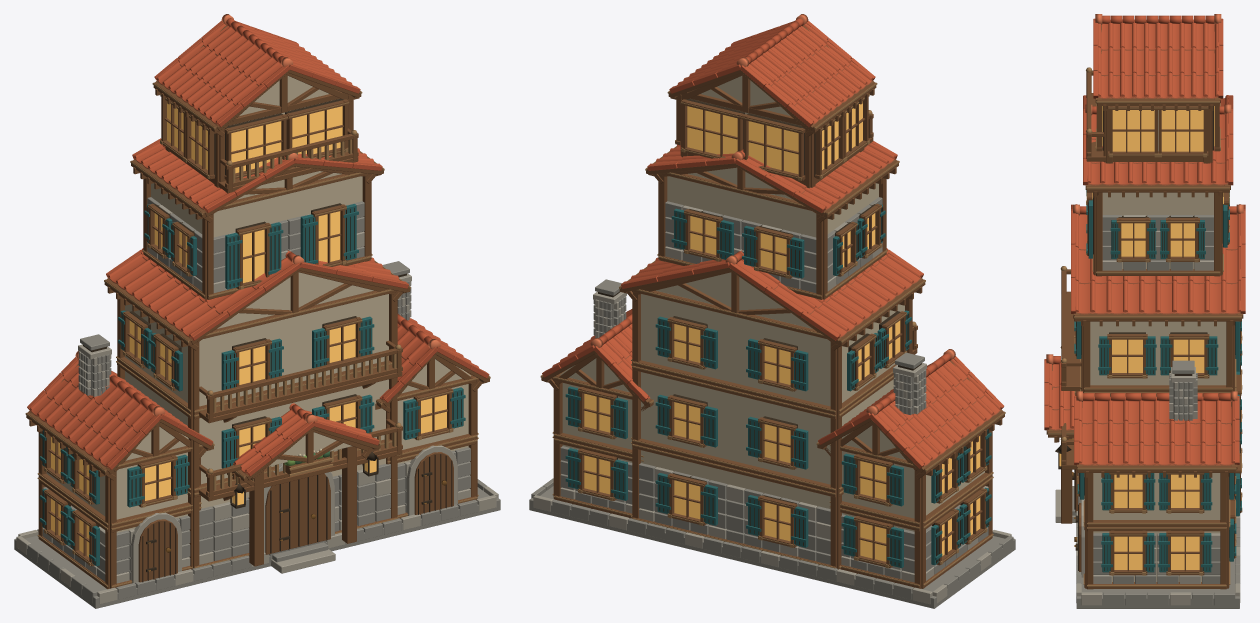
The picture shows the model from 3 angles, left to right: view 1: azimuth 30°, elevation 25°; view 2: azimuth 150°, elevation 25°; view 3: azimuth 270°, elevation 25°; orthographic projection.
Parts seen in each view (by area): view 1: alpine_skyscraper_3_geometry, alpine_skyscraper_3_geometry ceramic; view 2: alpine_skyscraper_3_geometry, alpine_skyscraper_3_geometry ceramic; view 3: alpine_skyscraper_3_geometry, alpine_skyscraper_3_geometry ceramic.
Boxes of the visible parts, left/top/right/bottom form: alpine_skyscraper_3_geometry: left=14, top=25, right=500, bottom=608; alpine_skyscraper_3_geometry ceramic: left=27, top=14, right=489, bottom=476; alpine_skyscraper_3_geometry: left=529, top=25, right=1015, bottom=608; alpine_skyscraper_3_geometry ceramic: left=542, top=14, right=1004, bottom=468; alpine_skyscraper_3_geometry: left=1046, top=24, right=1243, bottom=608; alpine_skyscraper_3_geometry ceramic: left=1044, top=14, right=1245, bottom=465.
Bounding box in the file's own units: 2.24 × 2.6 × 0.9578.
